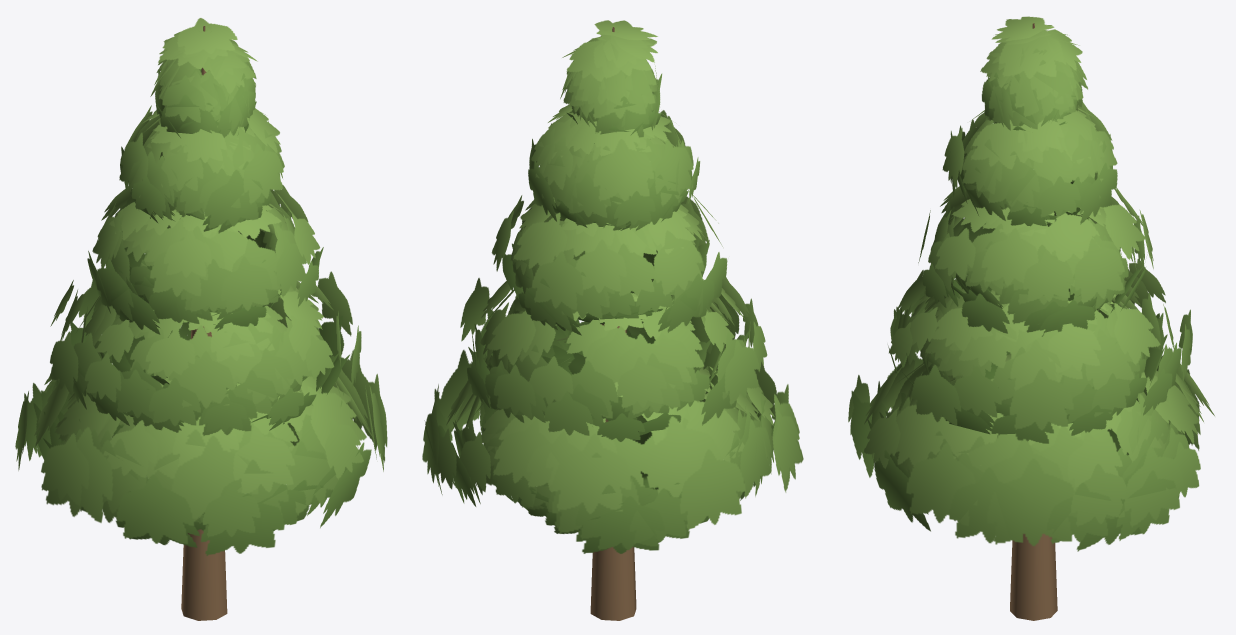
File: pine-17.glb
3 renders of one model, left to right at view 1: azimuth 30°, elevation 25°; view 2: azimuth 150°, elevation 25°; view 3: azimuth 270°, elevation 25°, orthographic.
Visible parts, largest first — view 1: tiered pine; view 2: tiered pine; view 3: tiered pine.
Part boxes in pixels (x1,y1,x2,y2): tiered pine: (15, 18, 387, 620); tiered pine: (422, 20, 803, 620); tiered pine: (848, 16, 1214, 620).
Bounding box in the file's own units: 3.87 × 6.5 × 3.86.
1 material, 1 textured.
